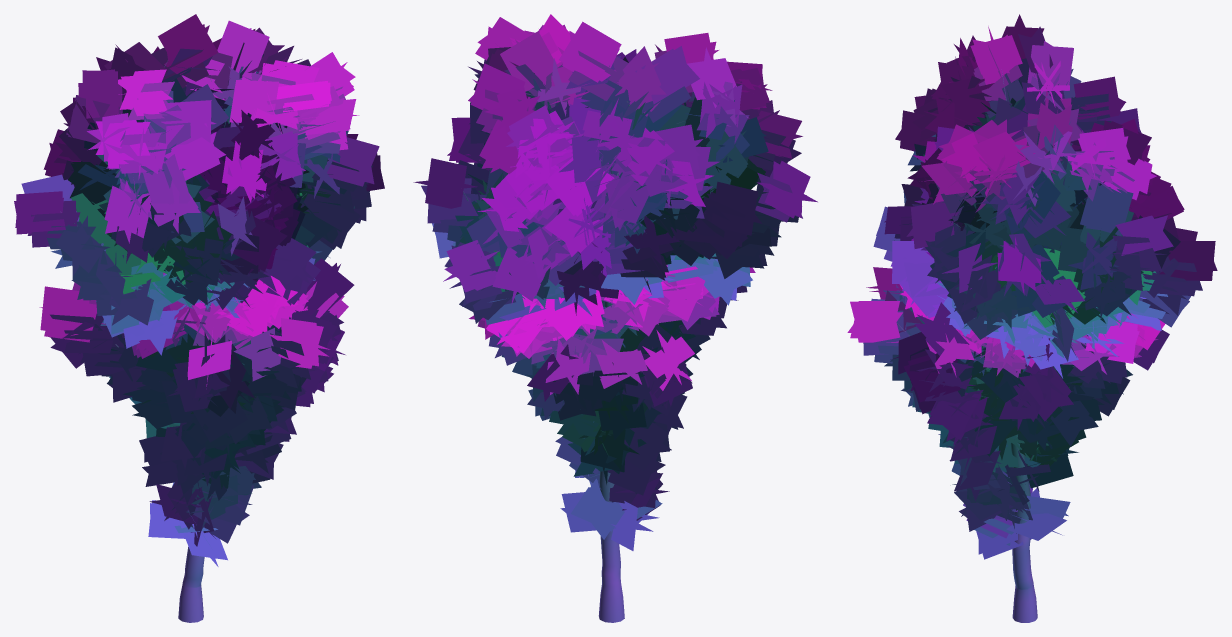
Rendered from tree_birch_s1_a15.fbx.
3 views of the same model, side by side, from view 1: azimuth 30°, elevation 25°; view 2: azimuth 150°, elevation 25°; view 3: azimuth 270°, elevation 25° (orthographic). The views are drawn at different scales.
Visible parts, largest first — view 1: tree_birch_s1_a15_leaves, tree_birch_s1_a15_branches; view 2: tree_birch_s1_a15_leaves, tree_birch_s1_a15_branches; view 3: tree_birch_s1_a15_leaves, tree_birch_s1_a15_branches.
Part boxes in pixels (x1,y1,x2,y2): tree_birch_s1_a15_leaves: [14, 14, 384, 566]; tree_birch_s1_a15_branches: [60, 60, 306, 622]; tree_birch_s1_a15_leaves: [413, 14, 817, 550]; tree_birch_s1_a15_branches: [463, 65, 765, 622]; tree_birch_s1_a15_leaves: [847, 14, 1217, 559]; tree_birch_s1_a15_branches: [896, 69, 1101, 622].
Bounding box in the file's own units: 4.36 × 6.92 × 4.13.
